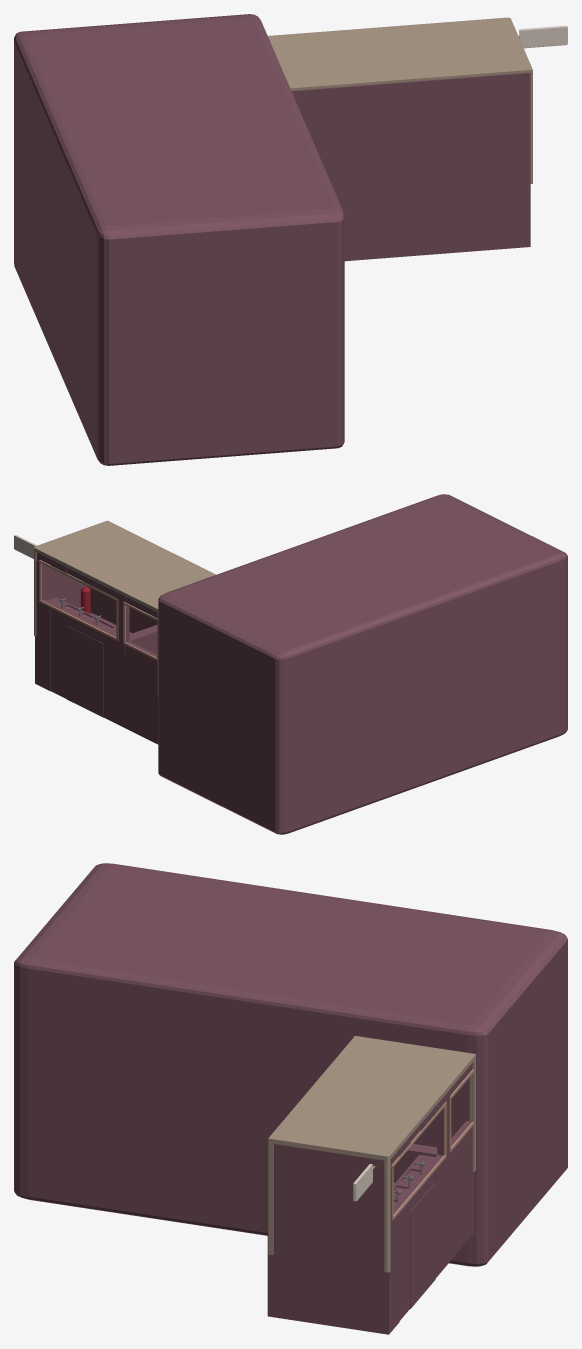
The model's file is GebouwenKleinHolzmarkt.fbx.
The picture shows the model from 3 angles, top to bottom: view 1: azimuth 30°, elevation 25°; view 2: azimuth 150°, elevation 25°; view 3: azimuth 270°, elevation 25°; orthographic projection. The views are drawn at different scales.
Parts seen in each view (by area): view 1: Cube.013; view 2: Cube.013; view 3: Cube.013.
Part boxes in pixels (<box>): Cube.013: <box>14,14,567,465</box>; Cube.013: <box>14,494,567,834</box>; Cube.013: <box>14,863,567,1334</box>.
Bounding box in the file's own units: 2285 × 871 × 1824.
